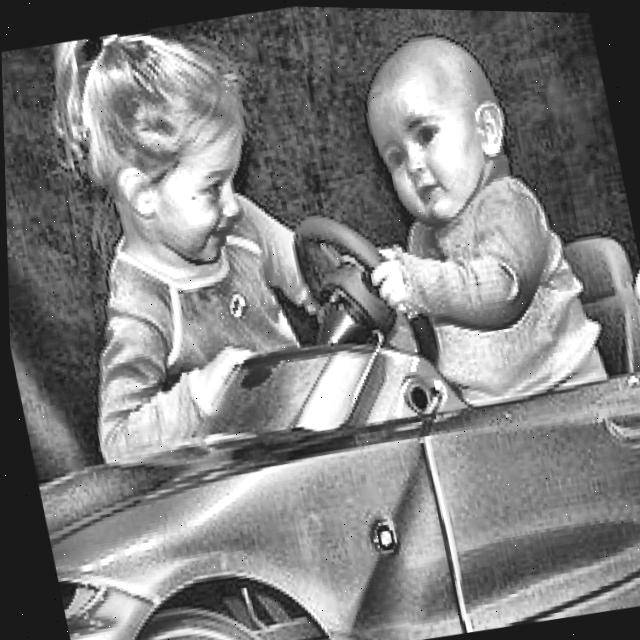light_vehicle: (3, 145, 640, 640)
